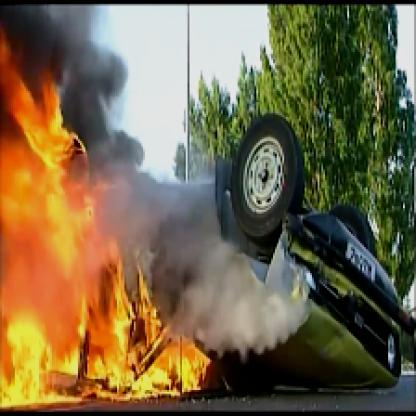Fire: (2, 48, 223, 410)
